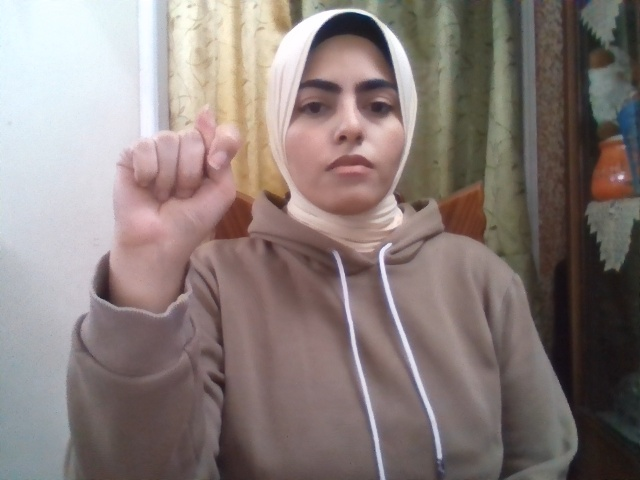T: (113, 104, 241, 253)
